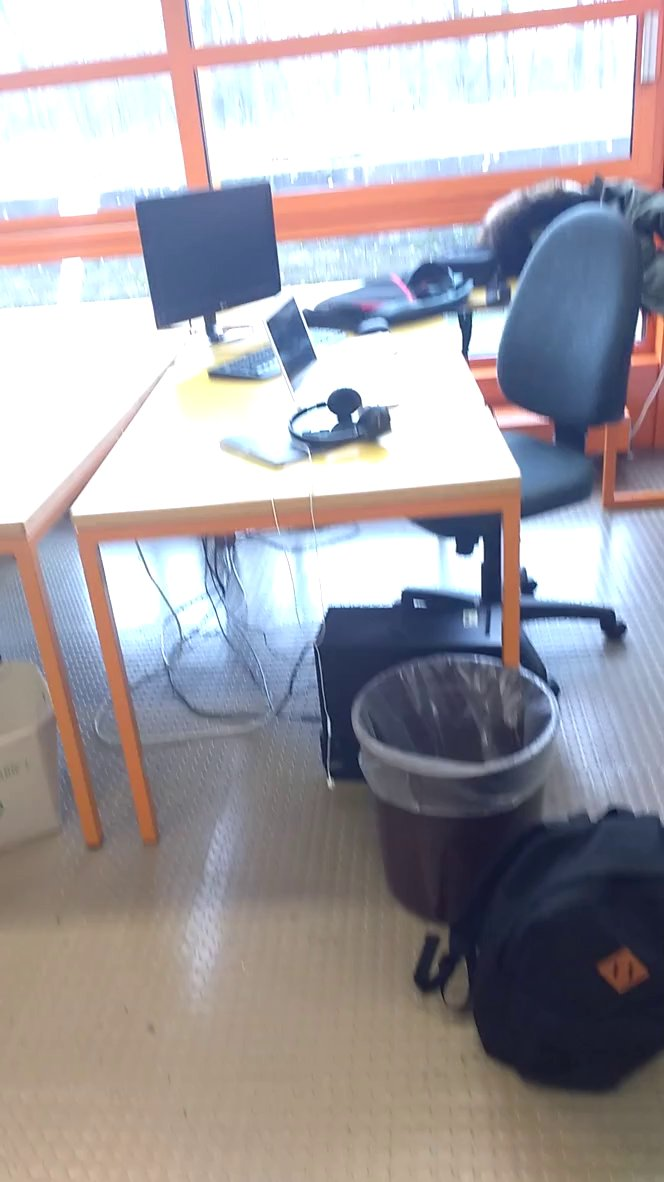bag: (409, 796, 664, 1103)
bin: (346, 648, 566, 929)
chair: (403, 190, 648, 717)
